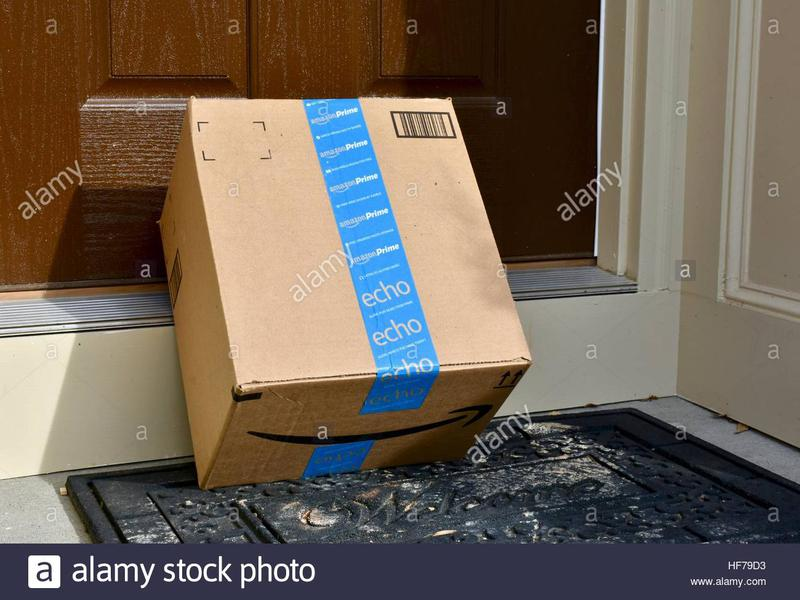package: (149, 88, 539, 499)
